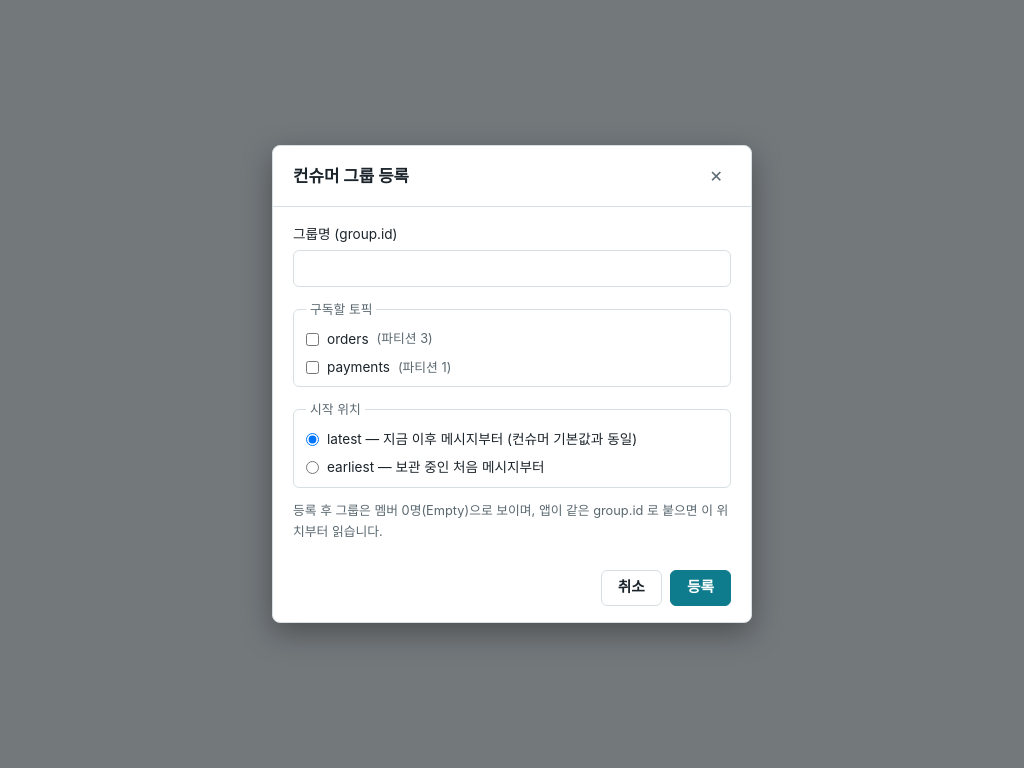
Test case: GroupRegisterModal › 토픽을 하나도 고르지 않으면 제출하지 않고 안내한다
In the field named "groupId": (512, 268) [293,250,731,287], type "g"
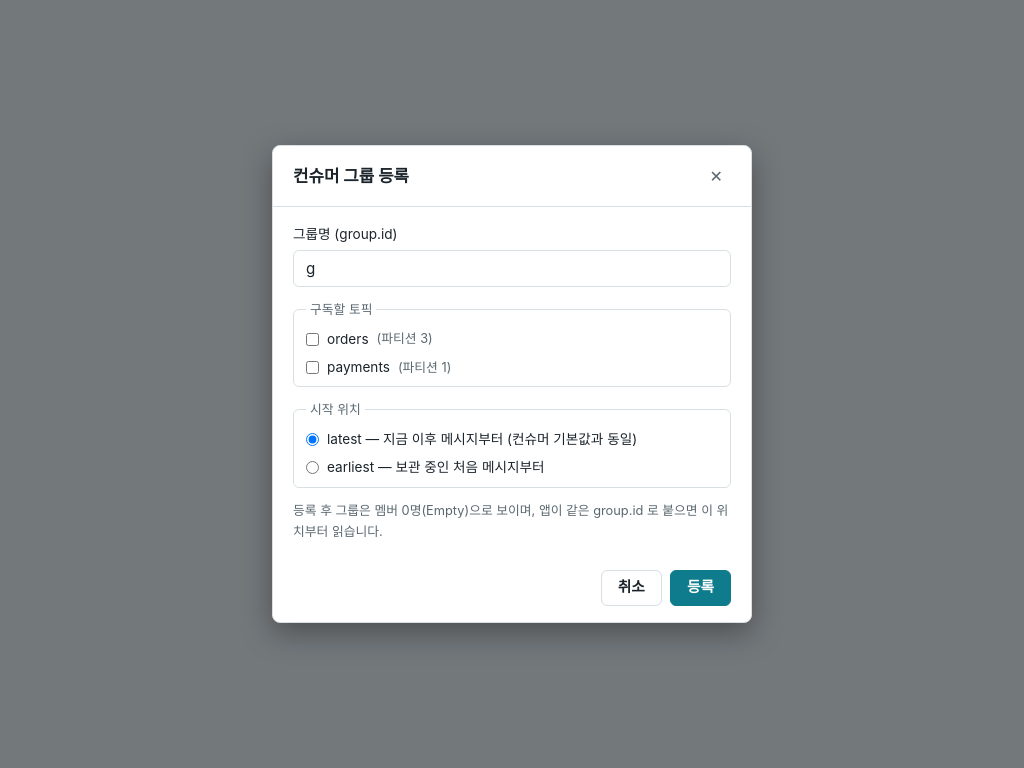
Submit the form, box [293,223,731,542]
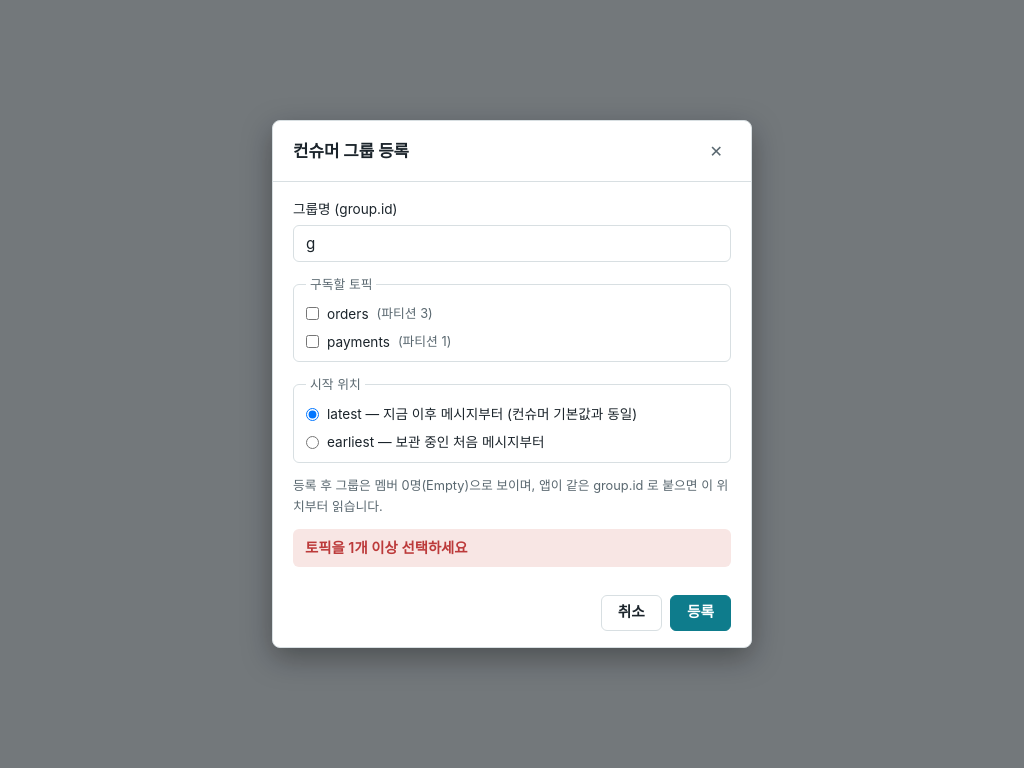
Expected: the text "토픽을 1개 이상" is shown, [305,539,468,556]
